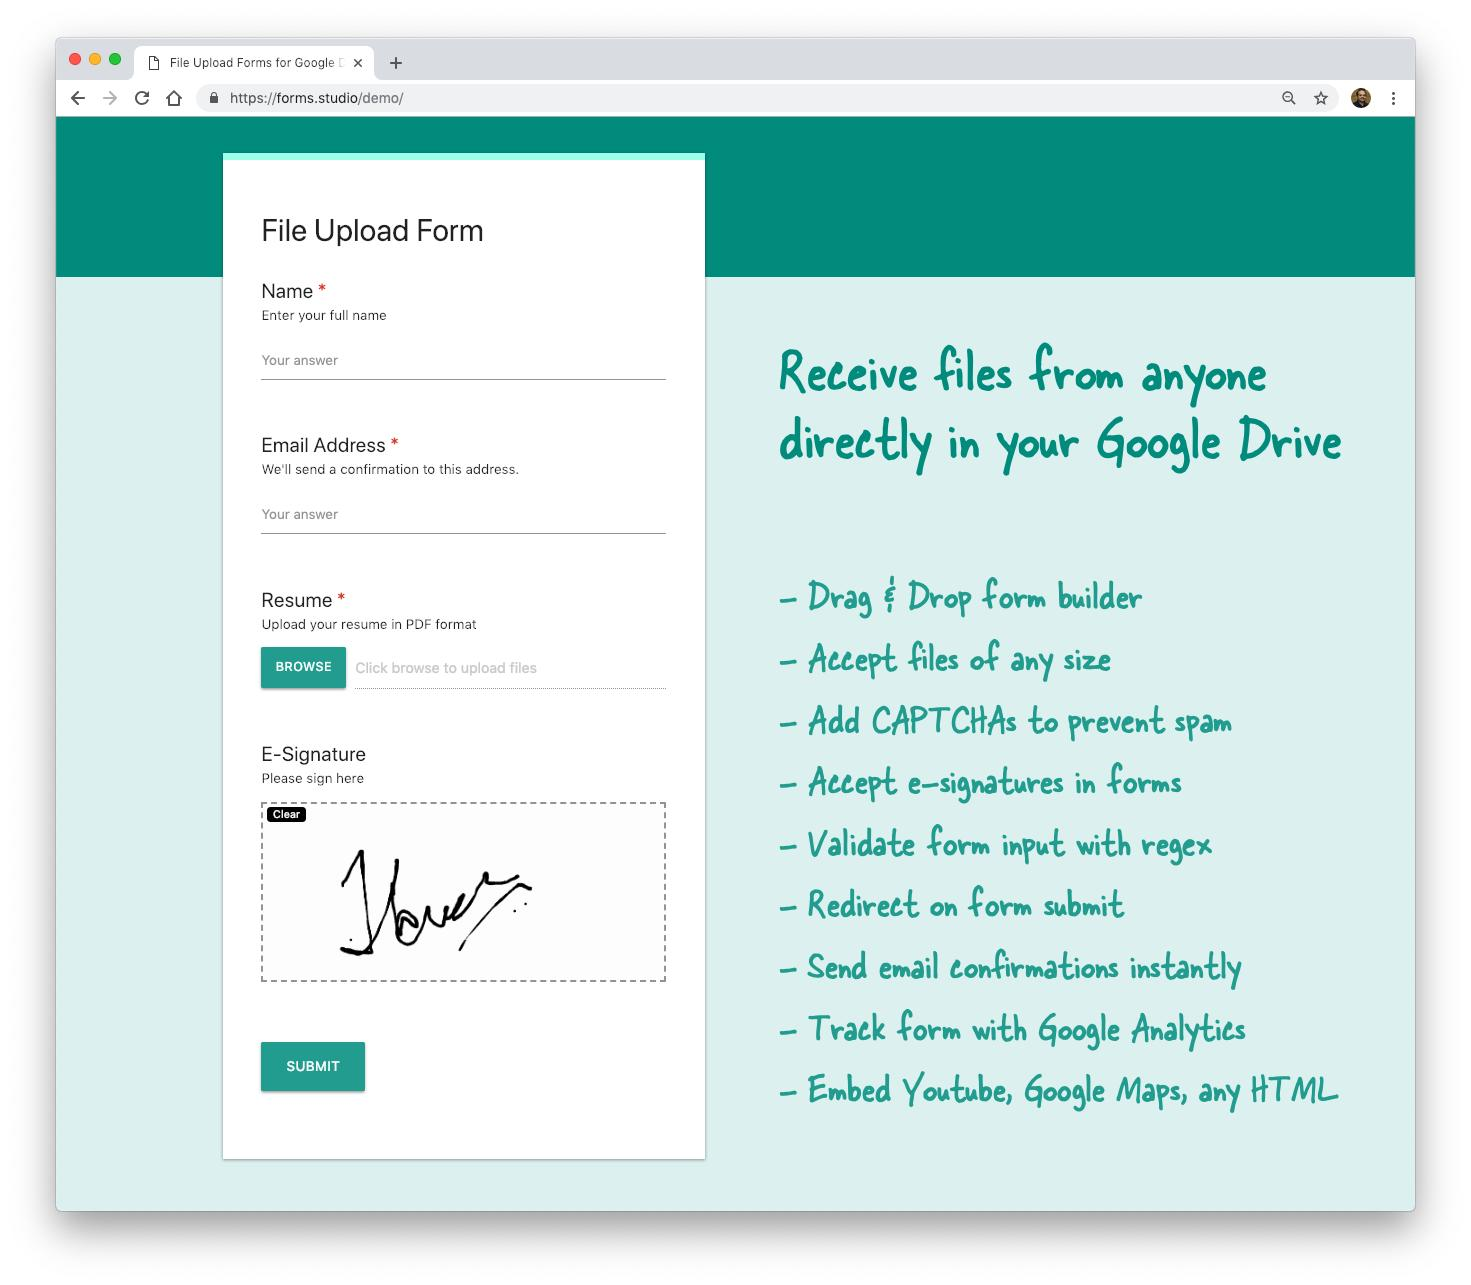button: (250, 1035, 387, 1114), (251, 642, 351, 704)
textbox: (246, 332, 680, 393), (251, 498, 672, 541)
